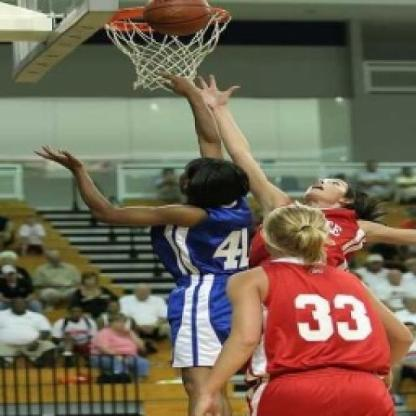basketball: (136, 0, 218, 39)
